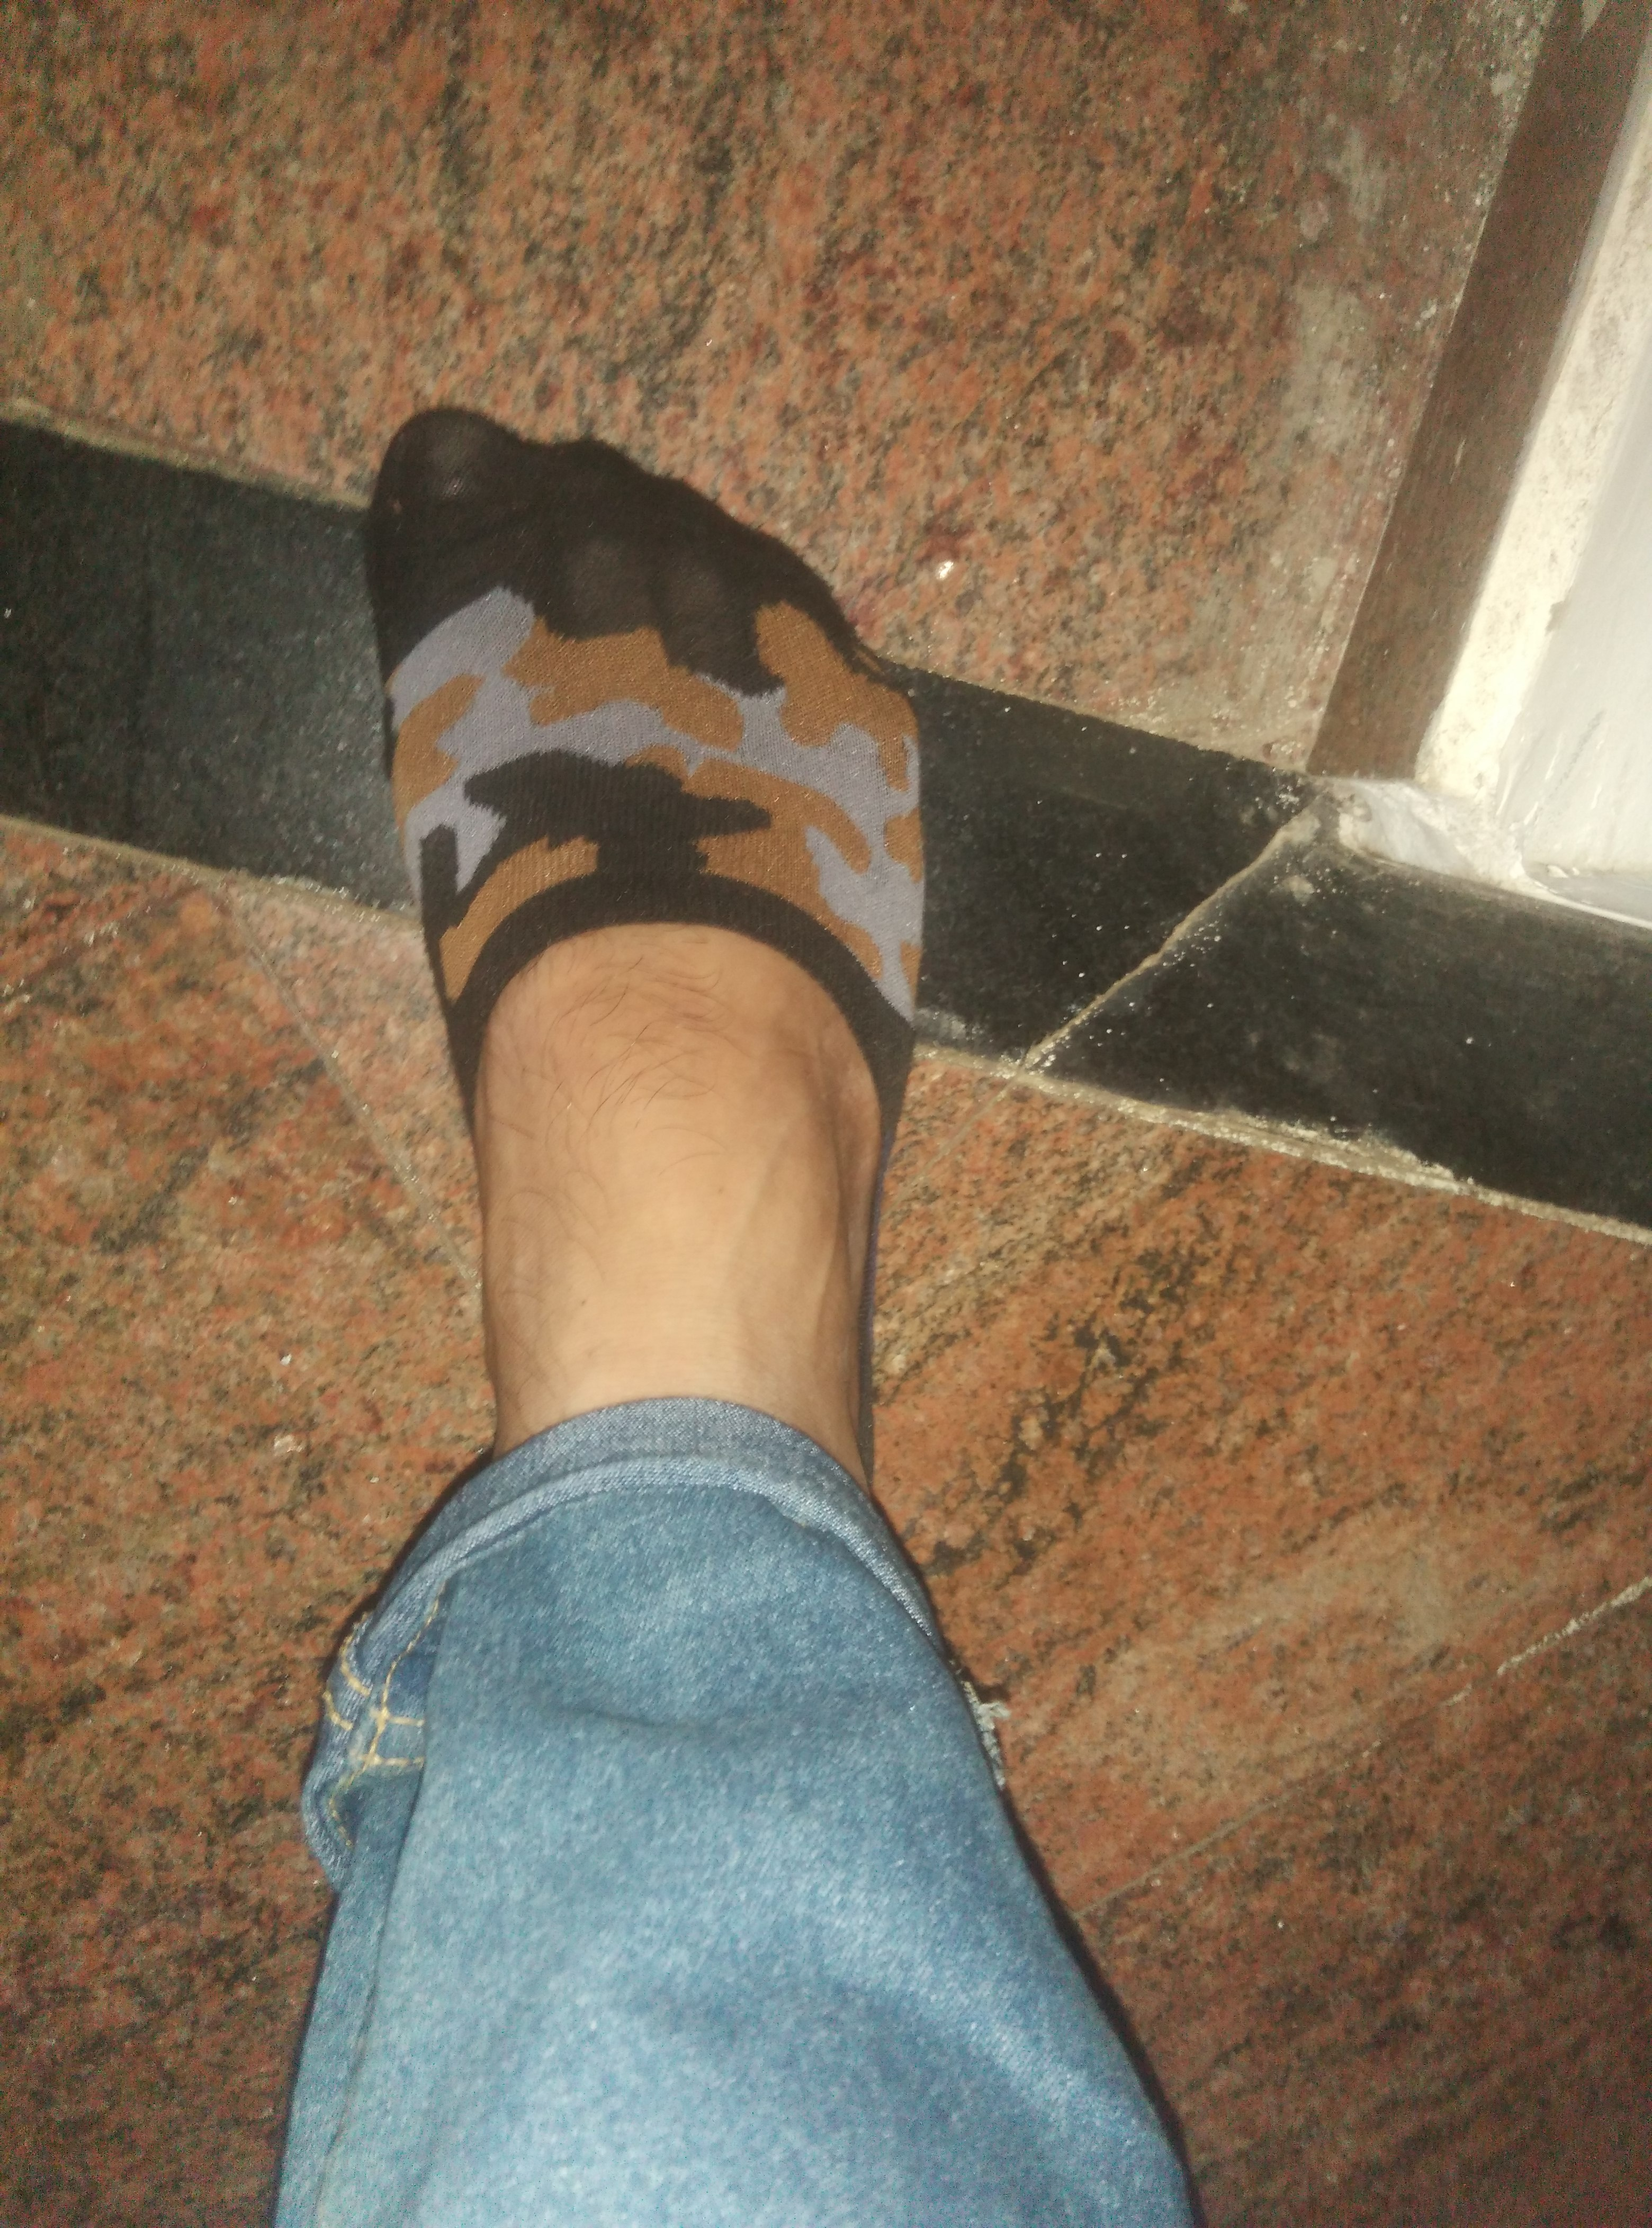feet: (295, 345, 958, 1690)
